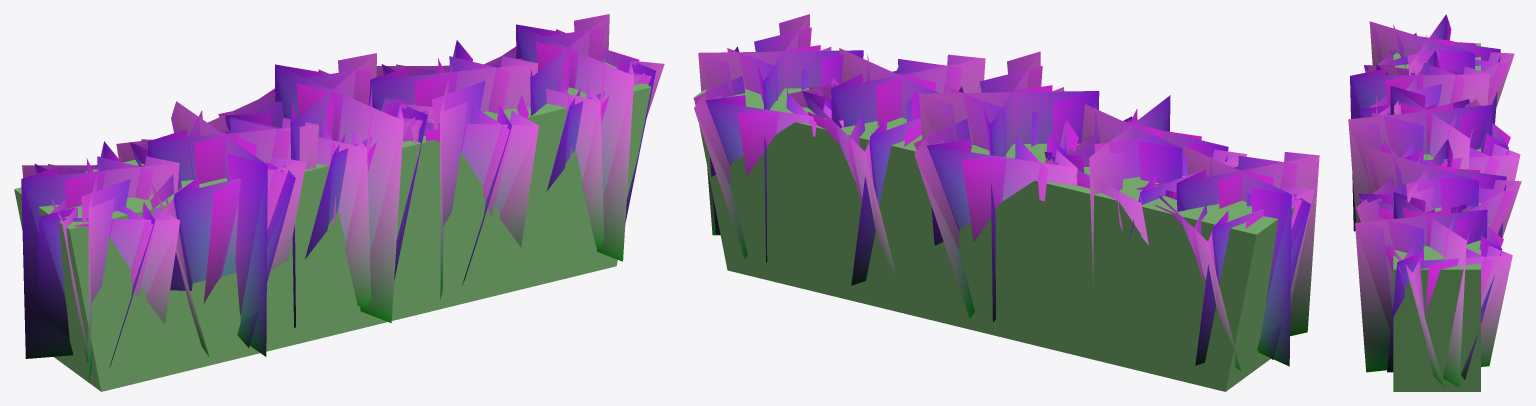
Rendered from tall_plant.dae.
3 renders of one model, left to right at view 1: azimuth 30°, elevation 25°; view 2: azimuth 150°, elevation 25°; view 3: azimuth 270°, elevation 25°, orthographic. The views are drawn at different scales.
Parts seen in each view (by area): view 1: tall_plant_a700, Colmesh-1, tall_plant_a140; view 2: Colmesh-1, tall_plant_a700, tall_plant_a140; view 3: tall_plant_a700, tall_plant_a140, Colmesh-1.
Part boxes in pixels (x1,y1,x2,y2): tall_plant_a700: [21, 14, 663, 367]; Colmesh-1: [14, 60, 651, 391]; tall_plant_a140: [21, 14, 664, 382]; Colmesh-1: [694, 88, 1294, 391]; tall_plant_a700: [693, 14, 1319, 370]; tall_plant_a140: [694, 14, 1319, 366]; tall_plant_a700: [1348, 14, 1521, 387]; tall_plant_a140: [1348, 14, 1521, 379]; Colmesh-1: [1393, 43, 1480, 391].
Bounding box in the file's own units: 7.74 × 2.34 × 2.66.
